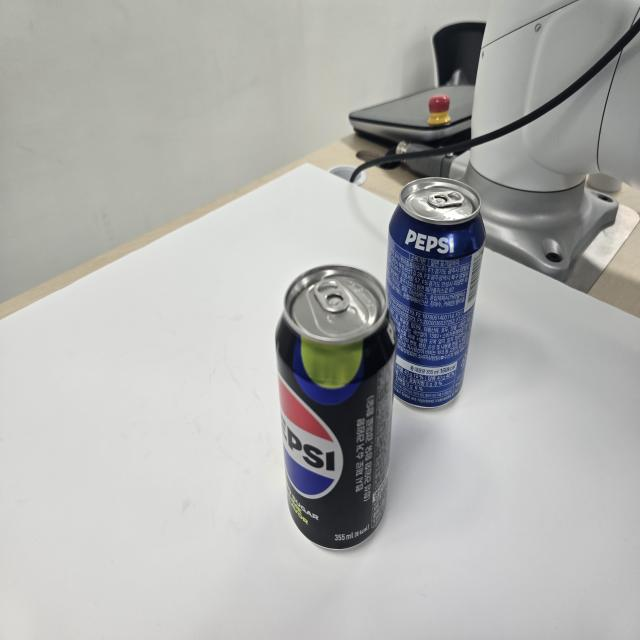can_pepsi: (386, 175, 489, 408)
can_pepsi_zero: (278, 263, 397, 548)
